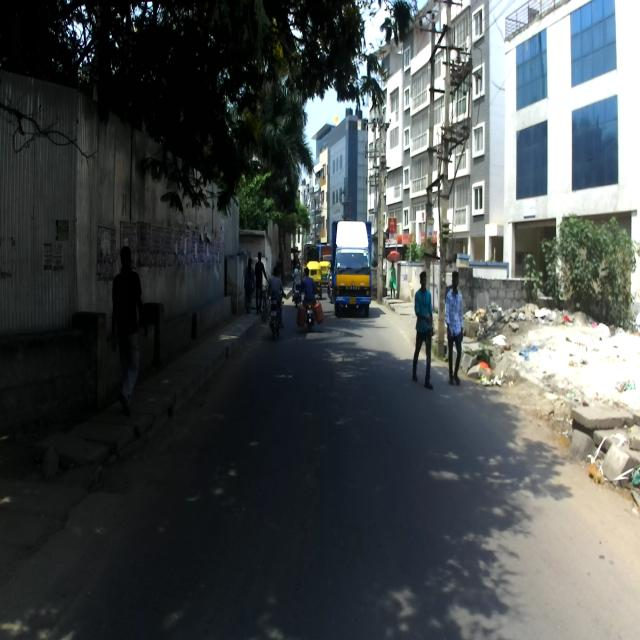person ahead at: (442, 269, 468, 393), (411, 269, 435, 393)
truck ahead at: (330, 216, 376, 322)
